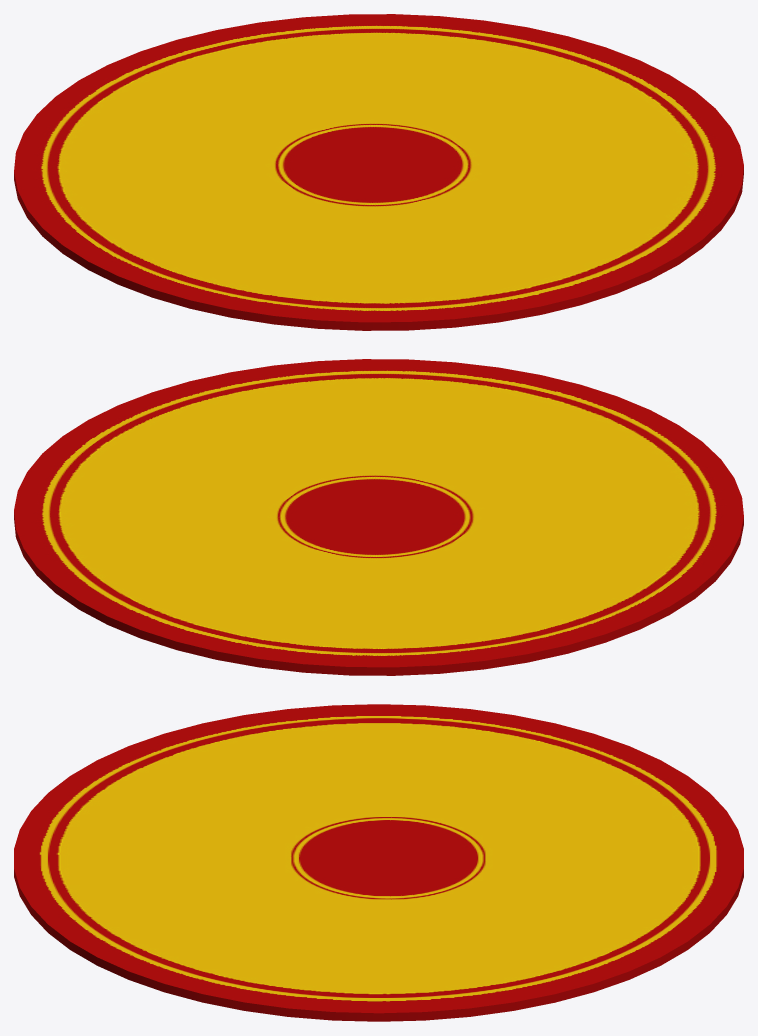
Rendered from Scene_battle_land.fbx.
3 renders of one model, top to bottom at view 1: azimuth 30°, elevation 25°; view 2: azimuth 150°, elevation 25°; view 3: azimuth 270°, elevation 25°, orthographic.
Visible parts, largest first — view 1: pCylinder1; view 2: pCylinder1; view 3: pCylinder1.
Boxes of the visible parts, x1,y1,x2,y2 form: pCylinder1: (14, 14, 743, 330); pCylinder1: (14, 359, 743, 675); pCylinder1: (14, 704, 743, 1021).
Size of what is drawn, in the model's own units: 15.81 by 0.2029 by 15.78.
1 material, 1 textured.
